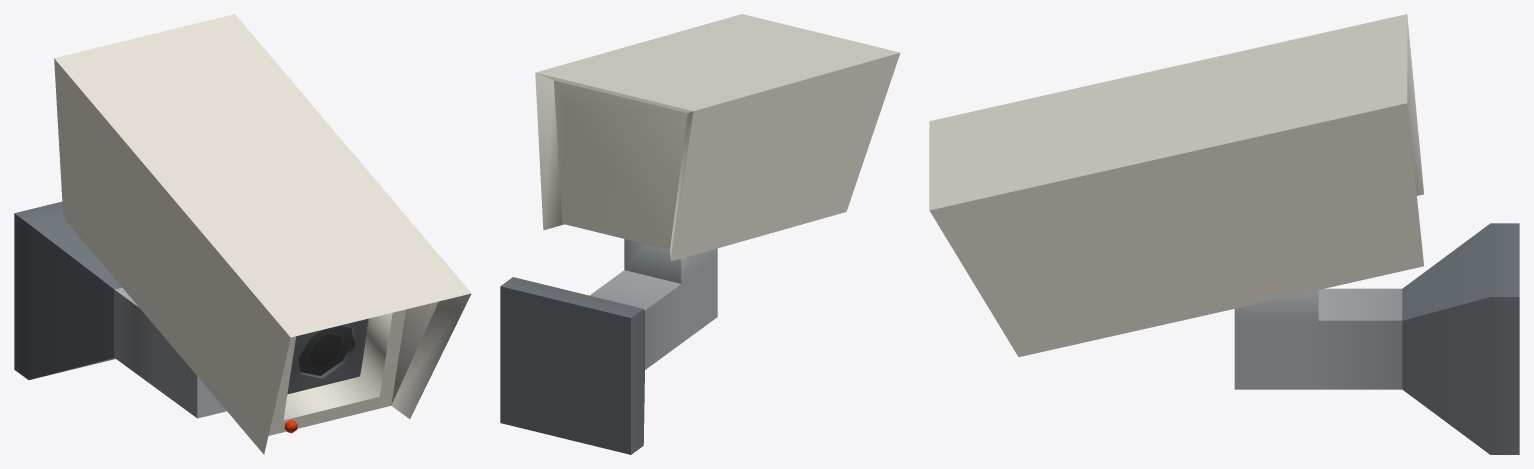
The model's file is Kamera.fbx.
3 renders of one model, left to right at view 1: azimuth 30°, elevation 25°; view 2: azimuth 150°, elevation 25°; view 3: azimuth 270°, elevation 25°, orthographic. The views are drawn at different scales.
Parts seen in each view (by area): view 1: Kamera; view 2: Kamera; view 3: Kamera.
Part boxes in pixels (box(x1,y1,x2,y2)): Kamera: box(14, 14, 471, 454); Kamera: box(500, 14, 900, 454); Kamera: box(929, 14, 1519, 454).
Bounding box in the file's own units: 10.5 × 19.74 × 29.36.
